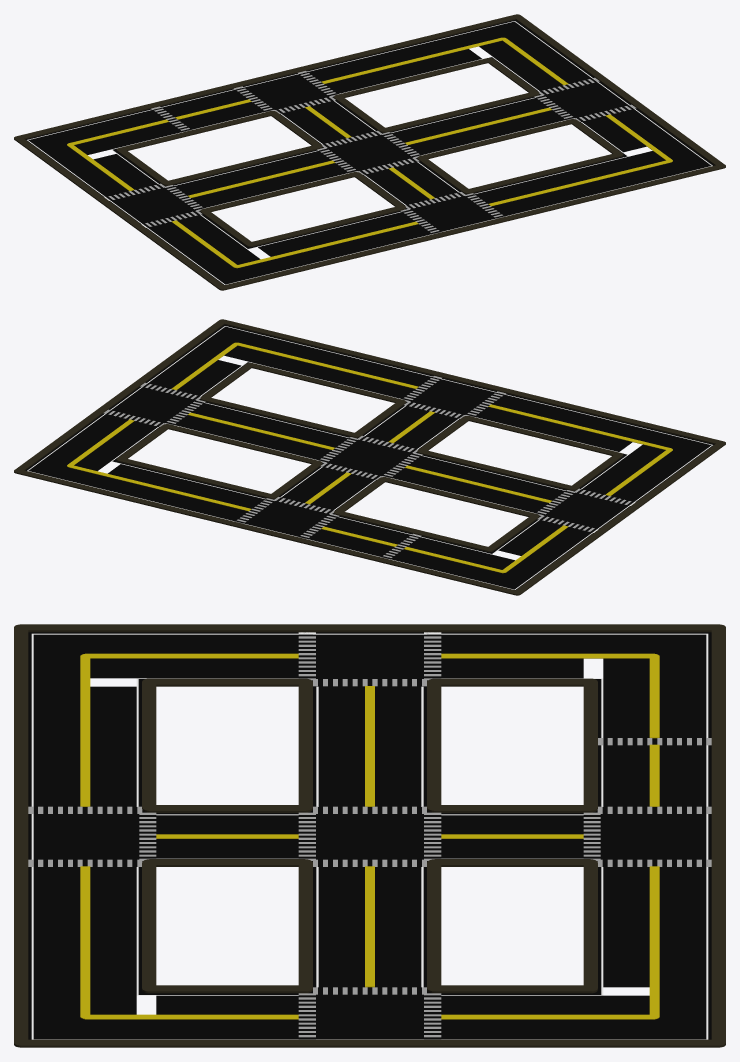
File: Roadway.obj
3 views of the same model, one above another, from view 1: azimuth 30°, elevation 25°; view 2: azimuth 150°, elevation 25°; view 3: azimuth 270°, elevation 25° (orthographic). The views are drawn at different scales.
Parts seen in each view (by area): view 1: RoadVer3; view 2: RoadVer3; view 3: RoadVer3.
Part boxes in pixels (x1,y1,x2,y2): RoadVer3: [14, 14, 725, 290]; RoadVer3: [14, 319, 725, 595]; RoadVer3: [14, 624, 725, 1047].
Size of the model in its own units: 14 by 0.0302 by 10.
